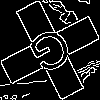G: (25, 25, 81, 84)
